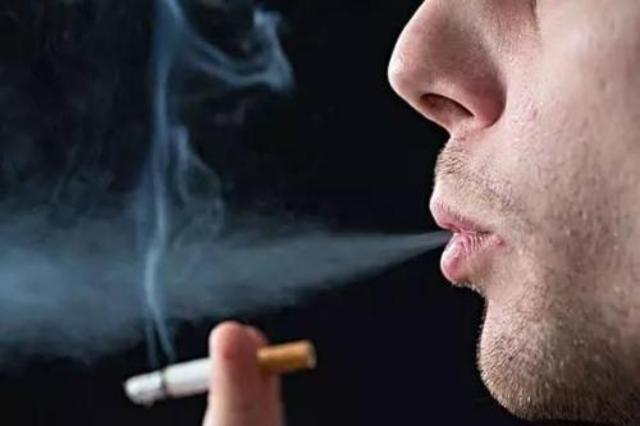Cigarette: (120, 338, 320, 404)
